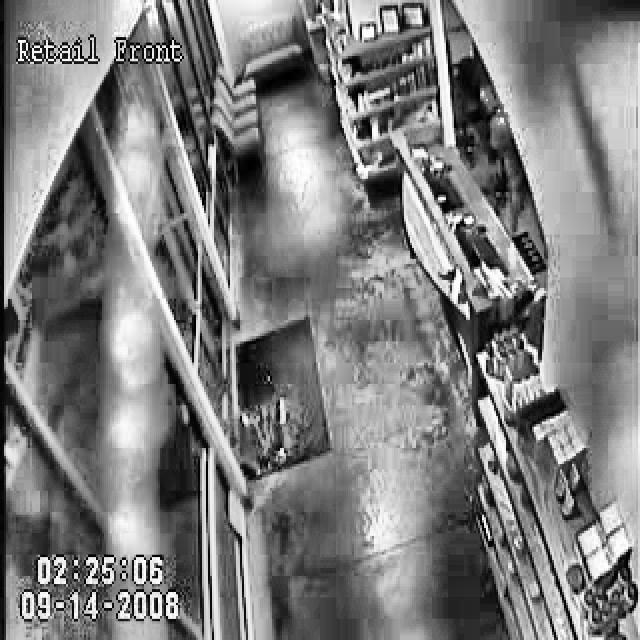burglary: (462, 74, 536, 248)
